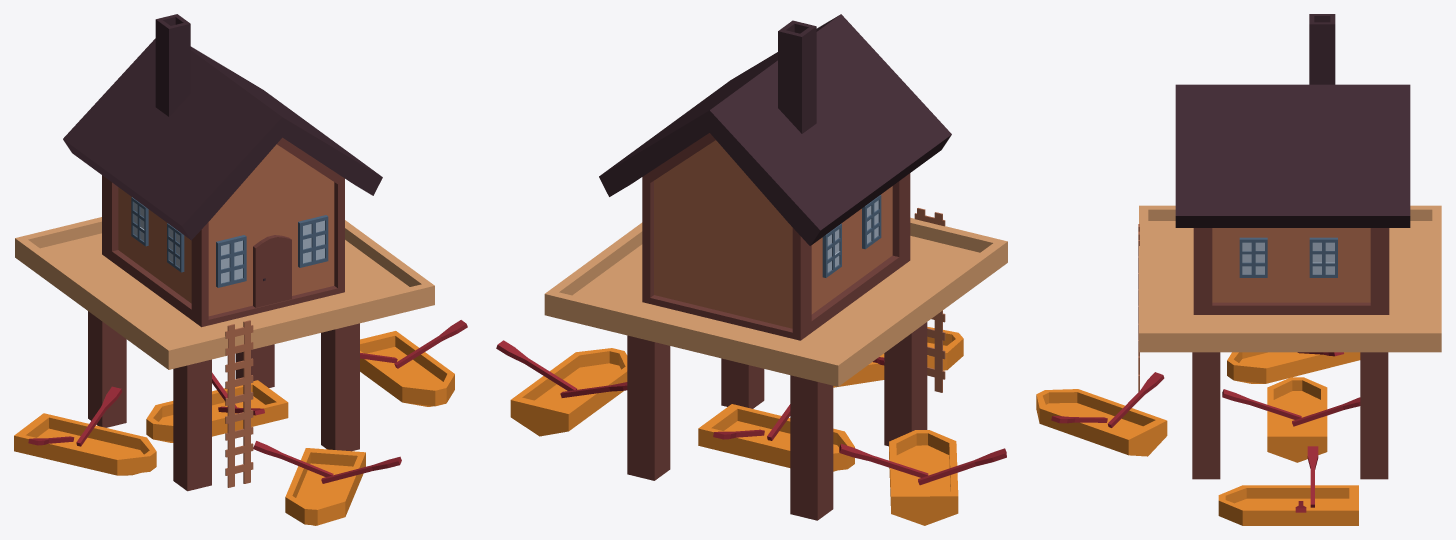
The model's file is port.fbx.
3 views of the same model, side by side, from view 1: azimuth 30°, elevation 25°; view 2: azimuth 150°, elevation 25°; view 3: azimuth 270°, elevation 25° (orthographic). The views are drawn at different scales.
Visible parts, largest first — view 1: Cube.005, Cube.004, lodz.001, Cube, Cube.001, lodz.002, lodz.003, Cube.003, Cube.006, Chimney, lodz, Cube.027 (+9 smaller); view 2: Cube.005, Cube.004, Cube.002, Cube.003, lodz.002, lodz.001, Cube, lodz, Chimney, Cube.001, lodz.003, Cube.006 (+5 smaller); view 3: Cube.005, Cube.004, lodz.002, lodz.003, lodz, Cube.001, Cube.002, lodz.001, Chimney, Cube.007, Cube.008, wioslo1.003 (+2 smaller).
Part boxes in pixels (box(x1,y1,x2,y2)): Cube.005: box(63, 38, 382, 327); Cube.004: box(15, 217, 434, 369); lodz.001: box(14, 413, 156, 475); Cube: box(173, 359, 211, 491); Cube.001: box(321, 323, 359, 451); lodz.002: box(360, 331, 454, 406); lodz.003: box(285, 448, 365, 525); Cube.003: box(88, 311, 126, 427); Cube.006: box(225, 320, 253, 487); Chimney: box(155, 14, 190, 116); lodz: box(146, 380, 288, 442); Cube.027: box(253, 235, 291, 307); Cube.005: box(599, 14, 951, 340); Cube.004: box(544, 217, 1007, 386); Cube.002: box(627, 335, 670, 480); Cube.003: box(790, 375, 833, 520); lodz.002: box(510, 348, 627, 436); lodz.001: box(889, 430, 958, 525); Cube: box(884, 322, 927, 446); lodz: box(698, 404, 854, 471); Chimney: box(778, 20, 816, 133); Cube.001: box(721, 358, 764, 408); lodz.003: box(833, 327, 963, 387); Cube.006: box(914, 208, 945, 392); Cube.005: box(1175, 84, 1410, 314); Cube.004: box(1139, 205, 1441, 352); lodz.002: box(1218, 485, 1358, 525); lodz.003: box(1036, 389, 1167, 456); lodz: box(1267, 377, 1327, 462); Cube.001: box(1192, 352, 1220, 479); Cube.002: box(1360, 352, 1388, 479); lodz.001: box(1227, 352, 1360, 383); Chimney: box(1309, 14, 1335, 84); Cube.007: box(1239, 237, 1267, 277); Cube.008: box(1309, 237, 1337, 277); wioslo1.003: box(1108, 372, 1164, 427).
Bounding box in the file's own units: 11.44 × 9.97 × 9.1.
